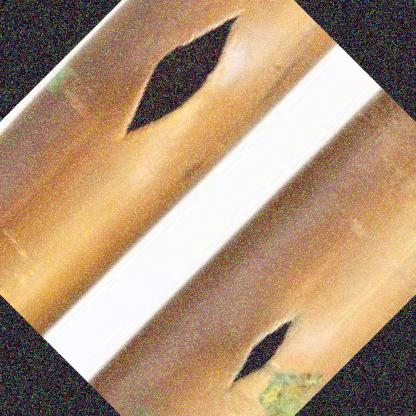burst: (121, 8, 256, 148), (228, 299, 301, 397)
